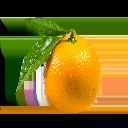orange: (35, 13, 103, 114)
